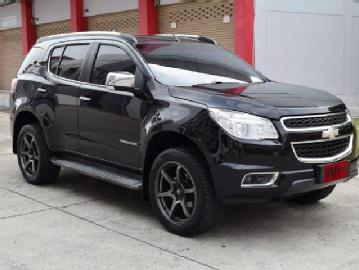pickup: (9, 31, 357, 237)
